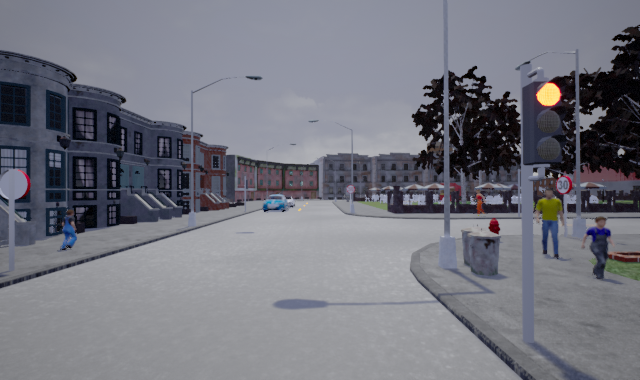pedestrian: (533, 183, 569, 259), (579, 215, 613, 282), (57, 205, 78, 253), (472, 188, 487, 216)
vehicle: (260, 193, 289, 213)
